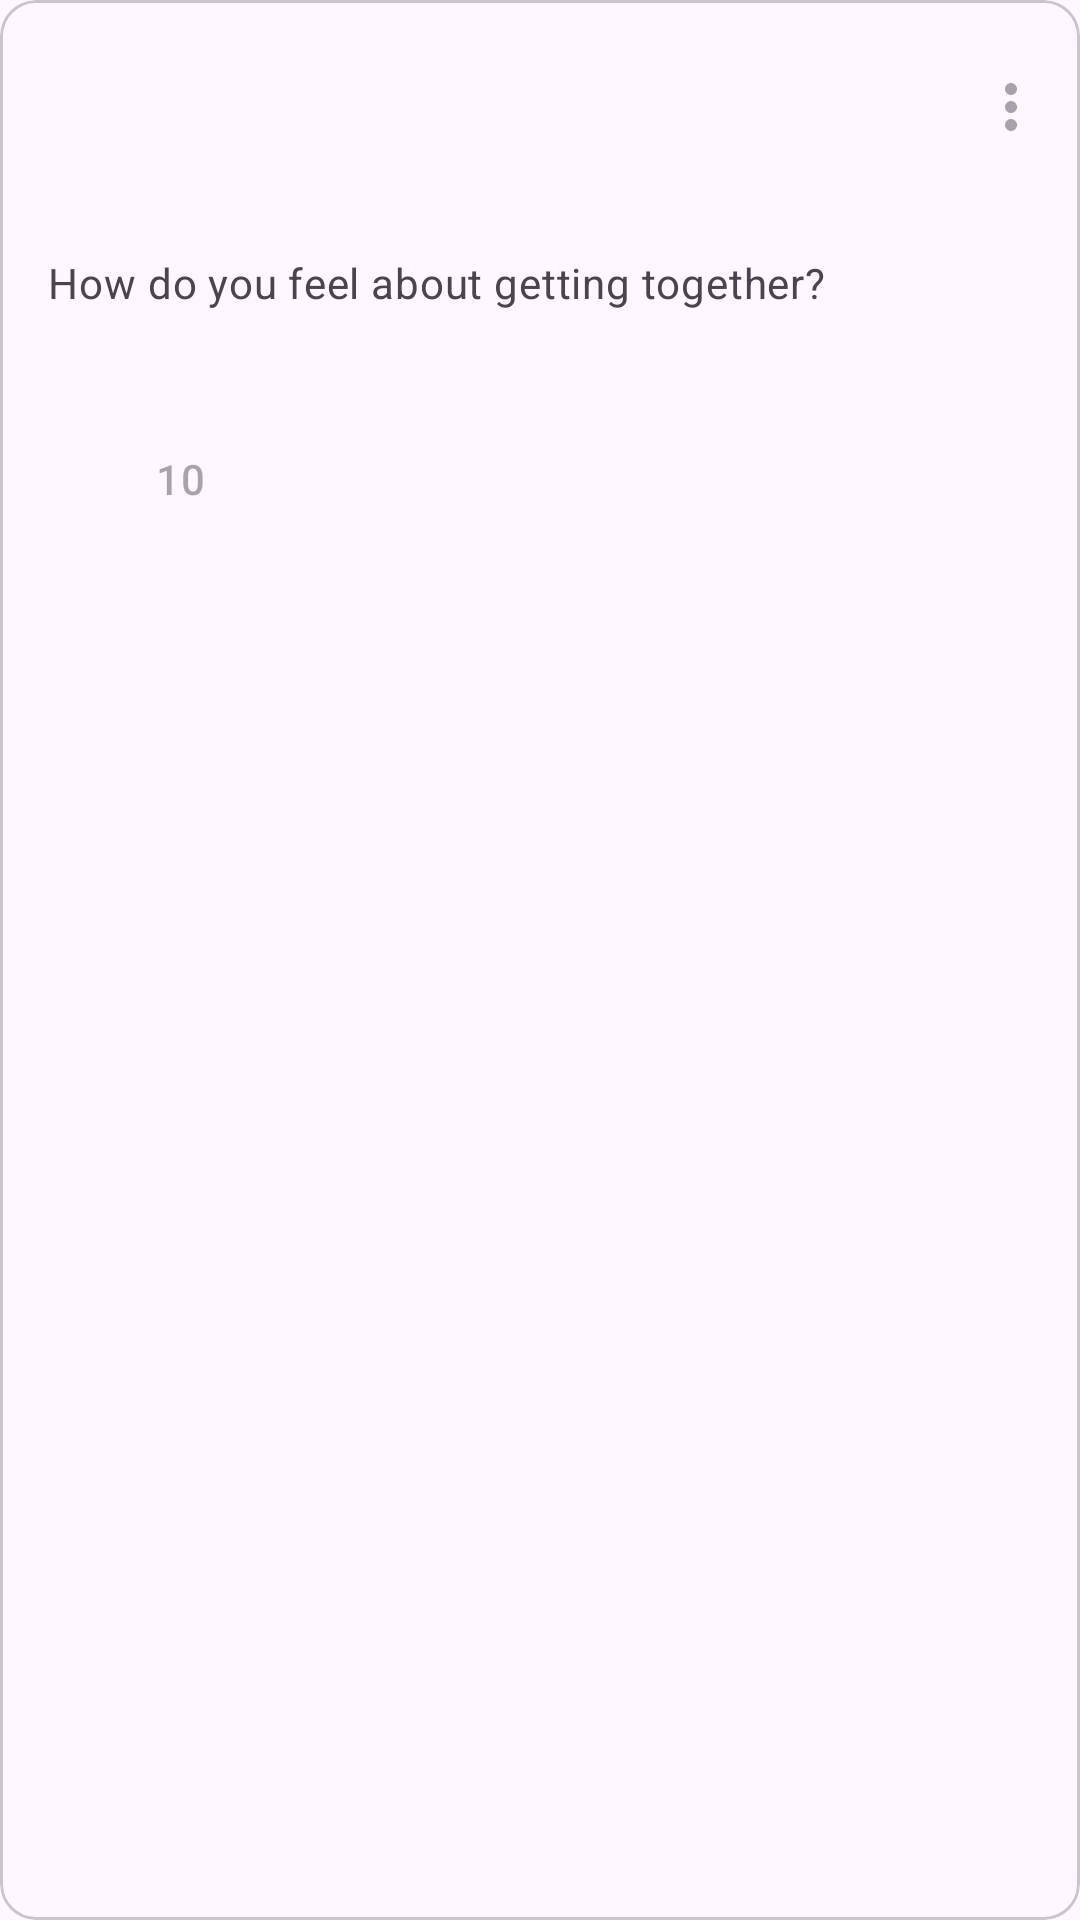

Icons on this 1080*1920 Android screen, each with the point to tap as [x,y]:
menu: [1011,107]
